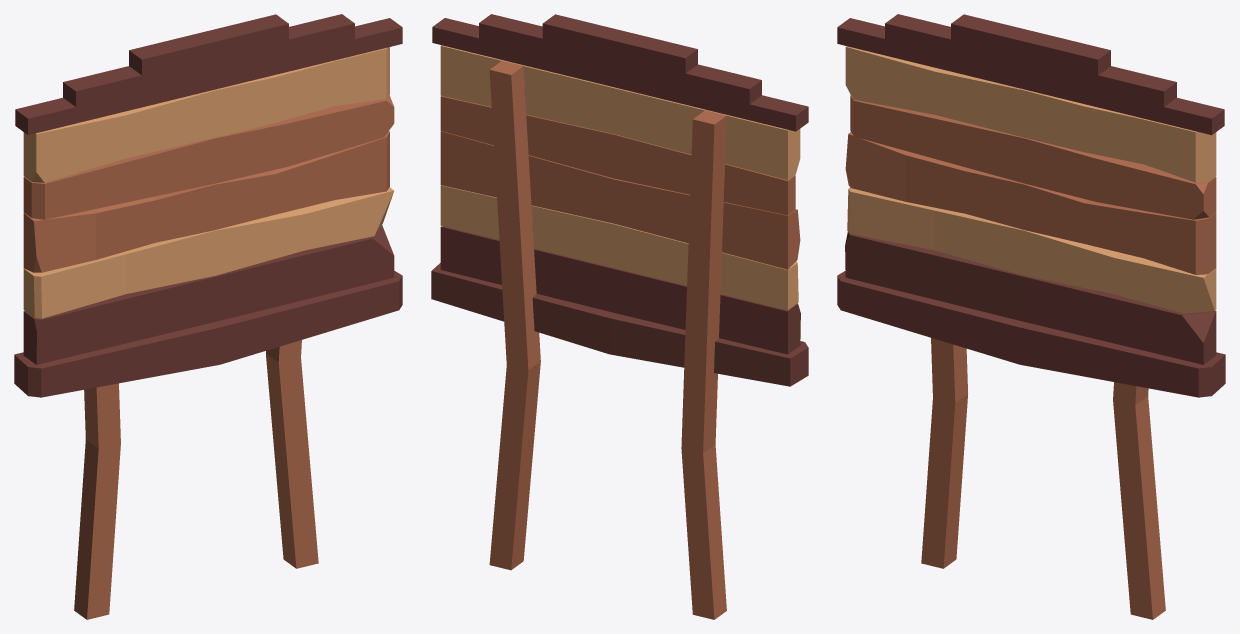
File: Notice Board.fbx
3 views of the same model, side by side, from view 1: azimuth 30°, elevation 25°; view 2: azimuth 150°, elevation 25°; view 3: azimuth 330°, elevation 25° (orthographic). The views are drawn at different scales.
Parts seen in each view (by area): view 1: Notice Board; view 2: Notice Board; view 3: Notice Board.
Boxes of the visible parts, left/top/right/bottom form: Notice Board: left=14, top=14, right=402, bottom=619; Notice Board: left=431, top=14, right=808, bottom=619; Notice Board: left=837, top=14, right=1225, bottom=619.
Bounding box in the file's own units: 168 × 239 × 23.51.
